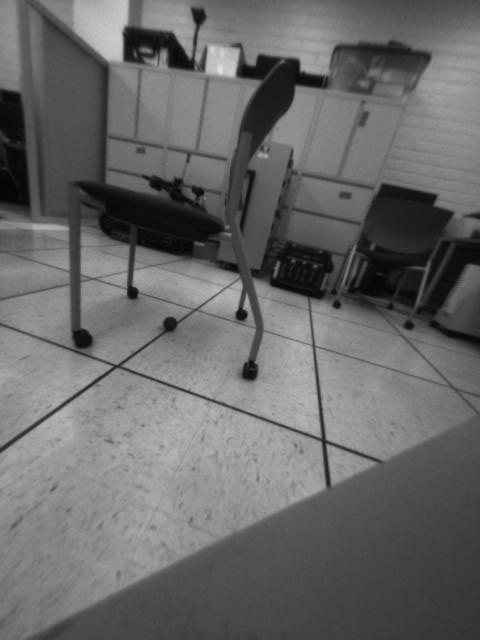dogtoy: (158, 311, 184, 337)
